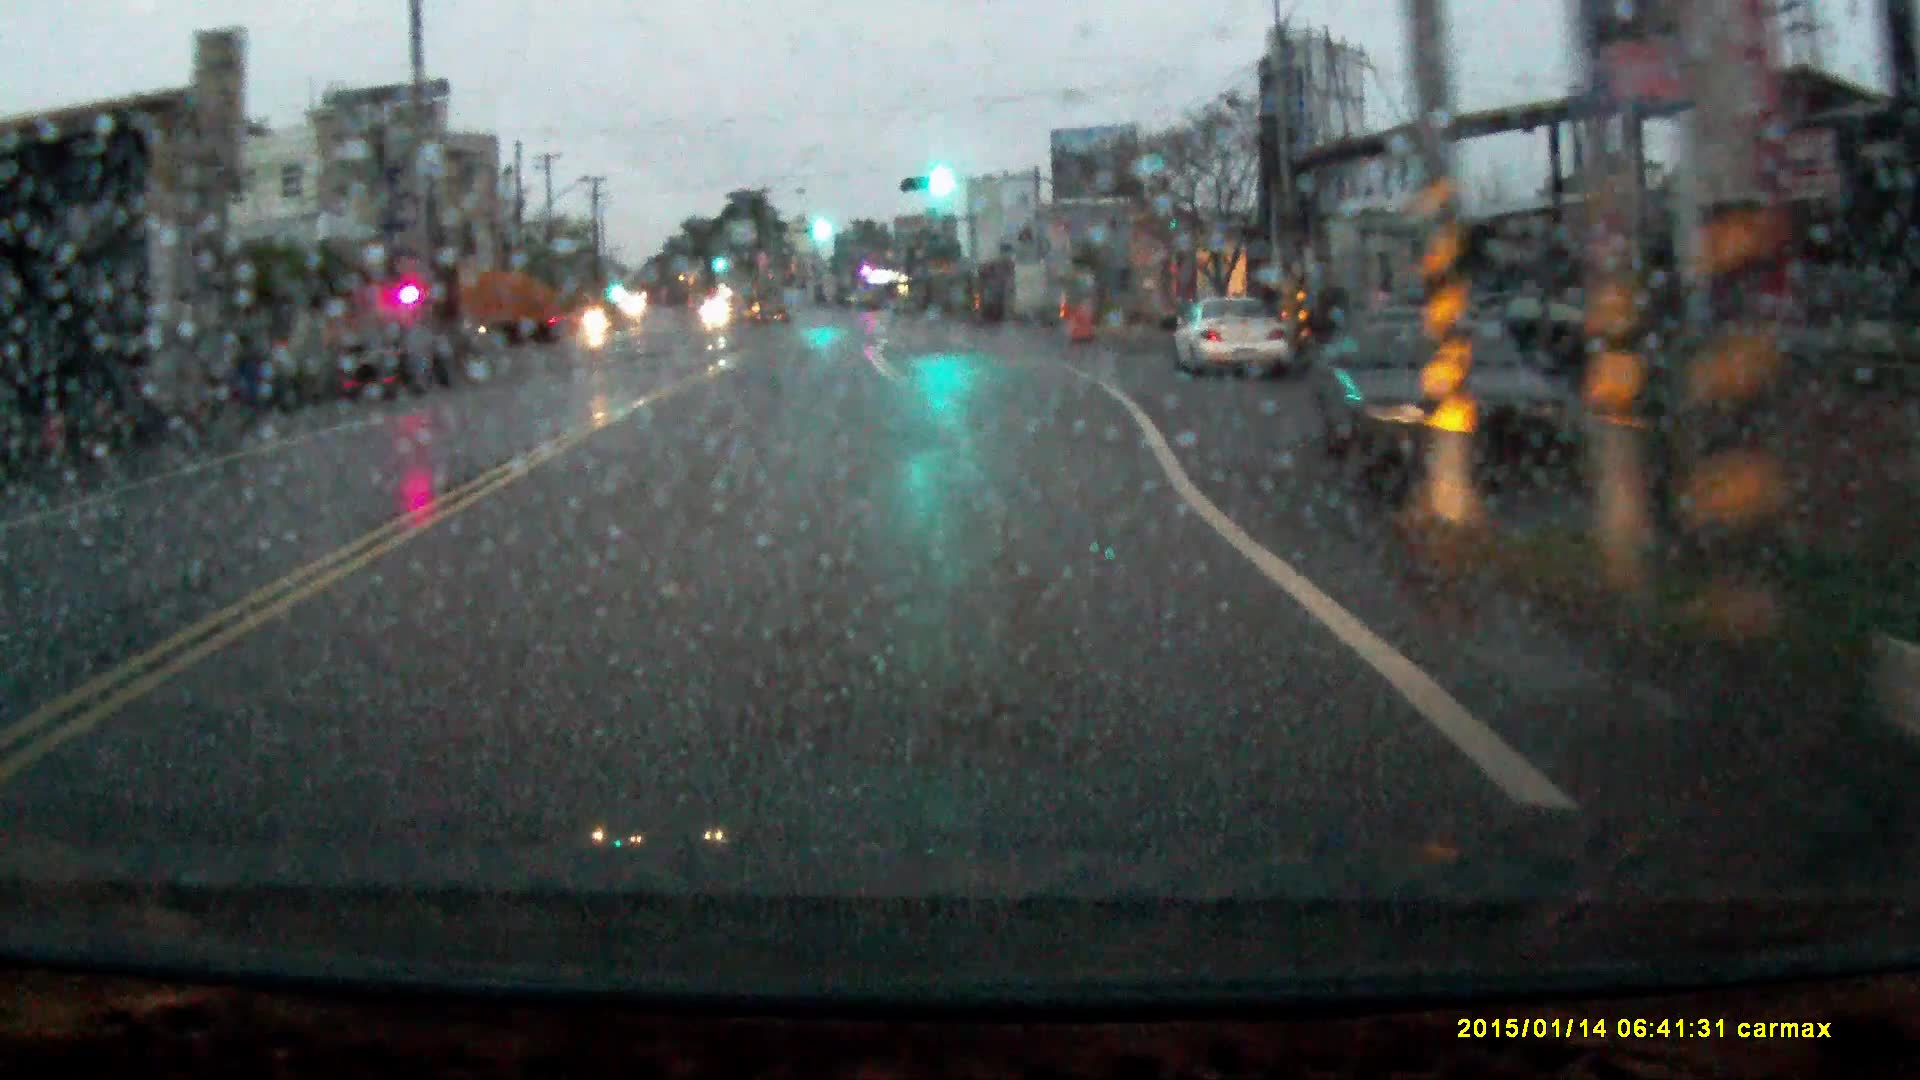rider: (577, 298, 613, 357)
vehicle: (1307, 317, 1574, 491), (1167, 288, 1290, 372), (452, 263, 562, 344), (331, 318, 451, 389), (702, 295, 730, 319)
